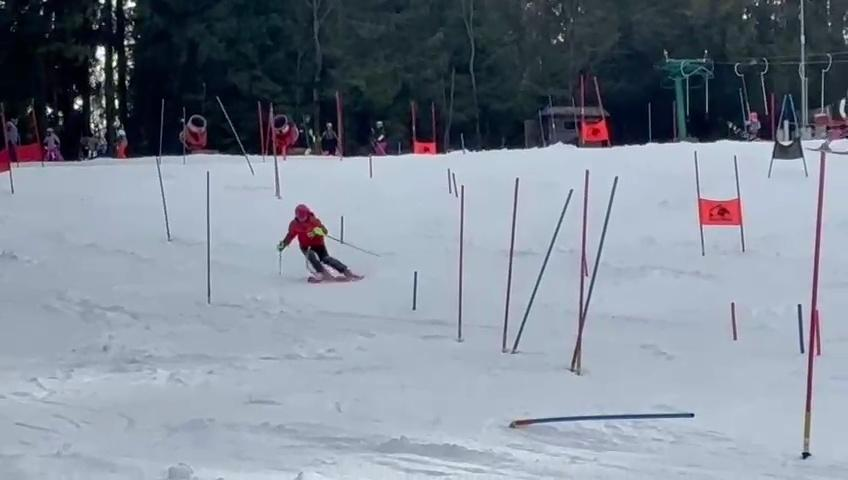gate: (455, 384, 712, 437), (513, 178, 573, 364), (790, 140, 824, 465), (573, 173, 615, 383), (211, 87, 255, 184), (679, 159, 714, 270), (500, 172, 521, 356), (450, 182, 473, 343), (147, 153, 184, 249), (199, 166, 219, 316), (724, 149, 751, 252), (783, 80, 810, 176), (760, 91, 789, 180), (592, 77, 616, 155), (267, 120, 290, 200), (571, 70, 588, 151), (152, 94, 170, 164), (403, 97, 419, 155), (728, 300, 746, 344), (790, 303, 804, 354), (410, 267, 420, 313), (433, 95, 437, 163), (368, 152, 375, 184), (339, 215, 346, 242)
